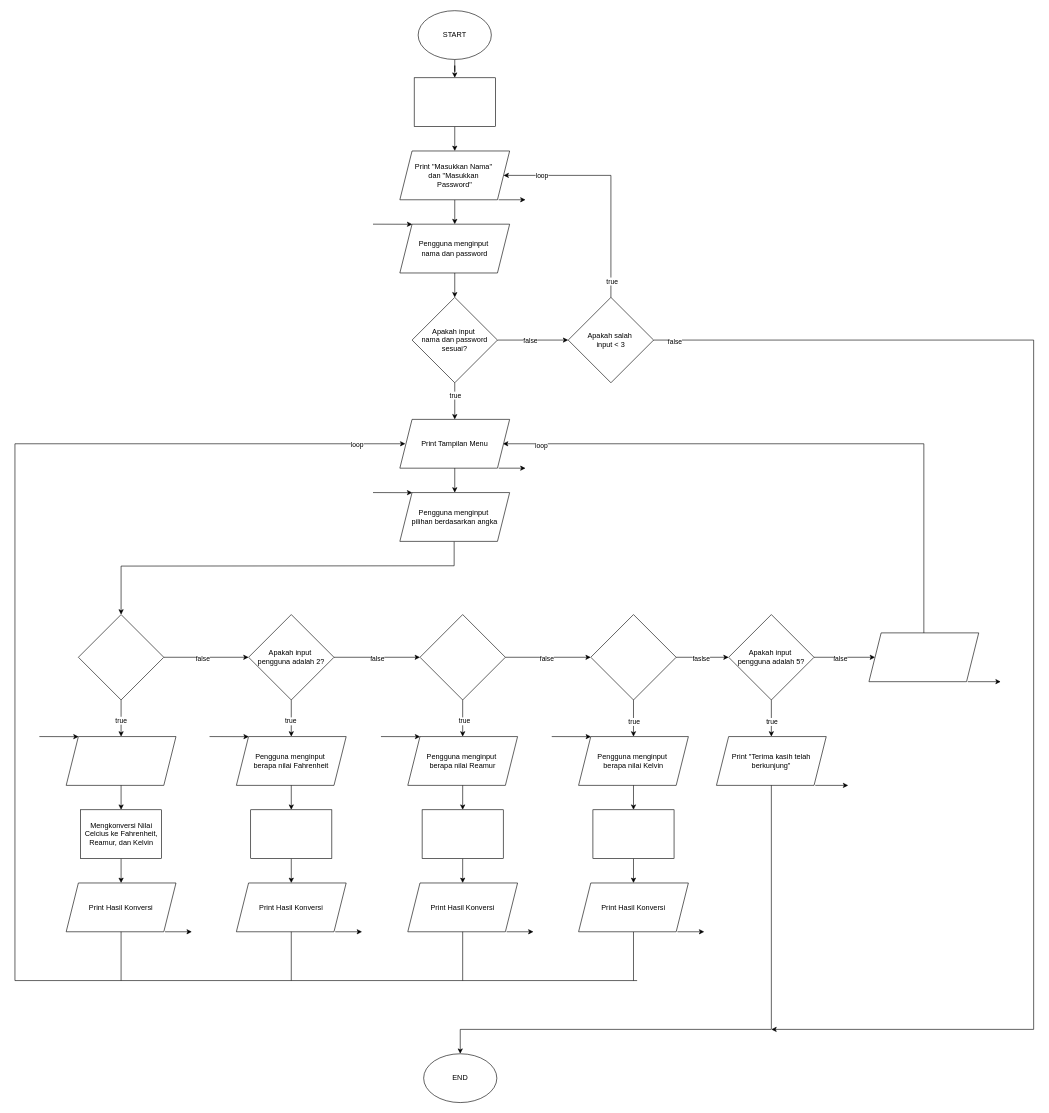
Some shapes in this 1049 by 1113 pixel diagram are drawn without their labels. The shapes that lost their labels are listed below. From the top down, each one's centre as x and y in pixels, then its label:
the point at 454,102: Variabel Nama = "Naufal", Password = "034"
the point at 121,657: Apakah input pengguna adalah 1?
the point at 462,657: Apakah input pengguna adalah 3?
the point at 633,657: Apakah input pengguna adalah 4?
the point at 923,657: Print "Pilihan tidak ada di menu"
the point at 121,760: Pengguna menginput berapa nilai Celcius
the point at 291,834: Mengkonversi Nilai Fahrenheit ke Celcius, Reamur, dan Kelvin
the point at 462,834: Mengkonversi Nilai Reamur ke Celcius, Fahrenheit, dan Kelvin
the point at 633,834: Mengkonversi Nilai Kelvin ke Celcius, Fahrenheit, dan Reamur
